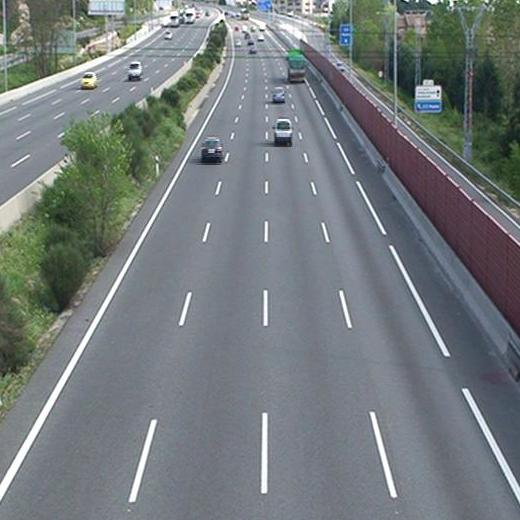car: (200, 136, 223, 162), (271, 87, 287, 103)
truck: (286, 51, 308, 82)
van: (273, 119, 292, 146)
